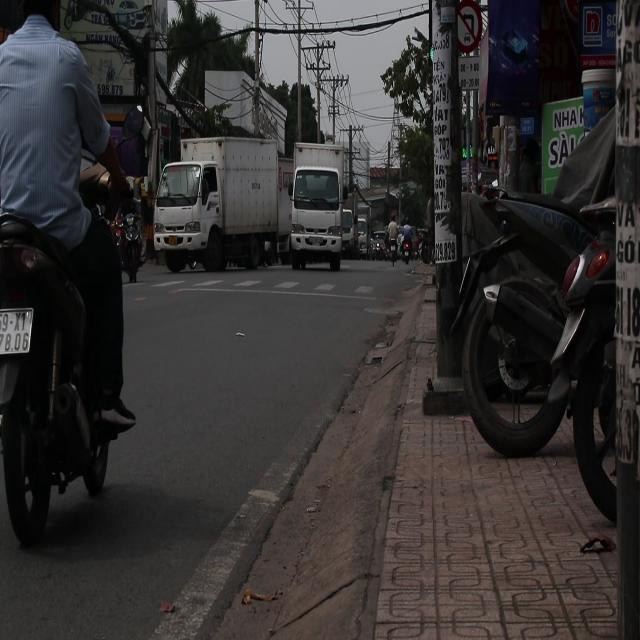motorbike: (0, 203, 112, 545), (109, 176, 148, 298), (392, 231, 422, 274), (378, 232, 402, 275)
truck: (151, 140, 292, 272), (288, 145, 346, 270), (334, 183, 374, 269)
